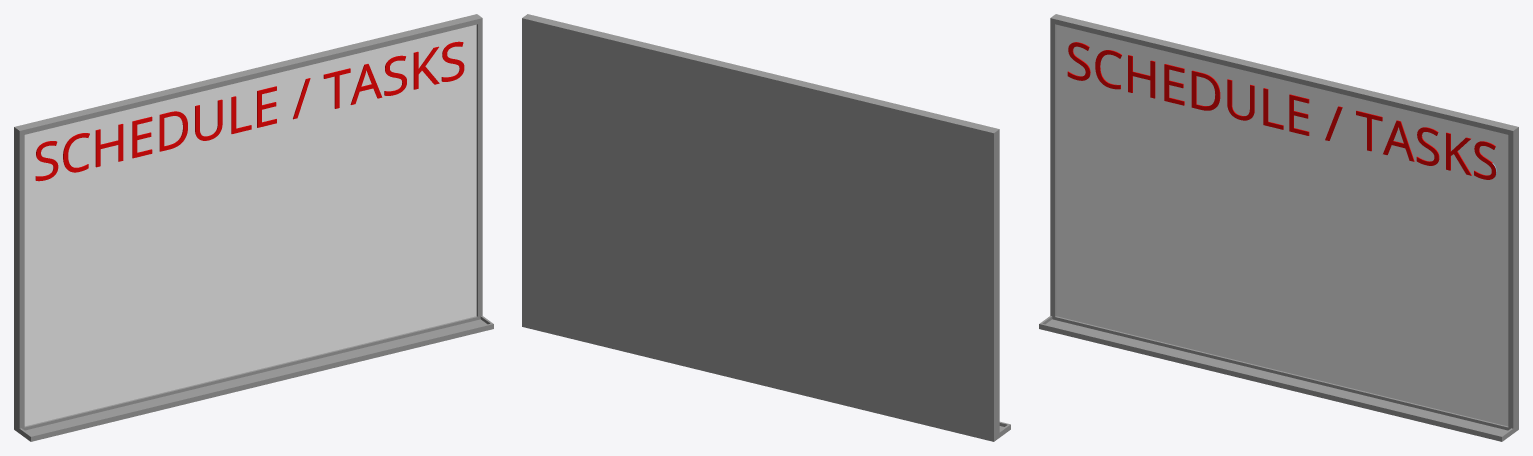
The model's file is Whiteboard.dae.
3 views of the same model, side by side, from view 1: azimuth 30°, elevation 25°; view 2: azimuth 150°, elevation 25°; view 3: azimuth 330°, elevation 25° (orthographic).
Visible parts, largest first — view 1: ID2; view 2: ID2; view 3: ID2.
Part boxes in pixels (x1,y1,x2,y2): ID2: (14,14,493,441); ID2: (522,14,1010,441); ID2: (1039,14,1518,441).
Bounding box in the file's own units: 1.22 × 0.0762 × 0.762.
